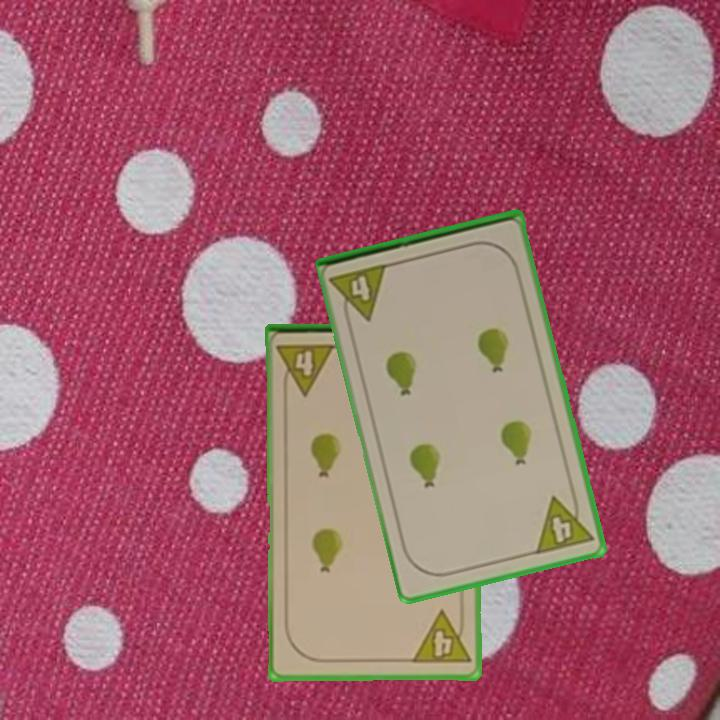4p: (532, 488, 596, 558), (328, 260, 392, 328), (408, 607, 473, 667), (274, 340, 339, 398)
